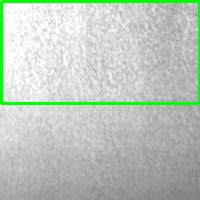pitted_surface: (1, 1, 199, 103)
